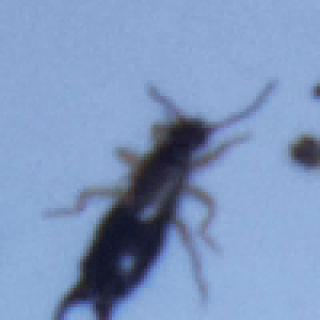earwig: (41, 79, 277, 320)
